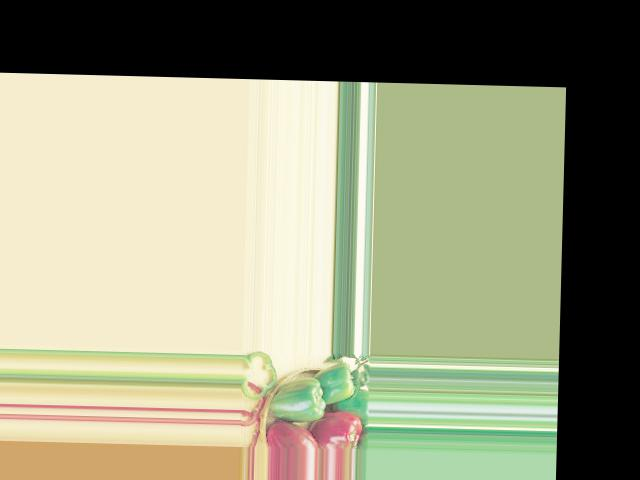bell_pepper: (266, 423, 320, 448)
